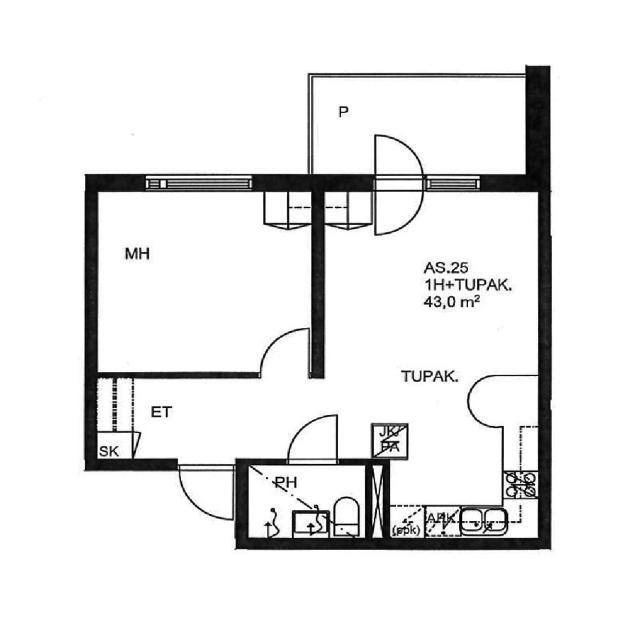door: (370, 132, 432, 238), (172, 456, 238, 523), (253, 324, 316, 381), (283, 409, 342, 469)
window: (141, 170, 258, 196), (423, 170, 487, 196)
zone: (318, 175, 541, 461), (90, 186, 317, 375), (87, 373, 323, 458), (379, 461, 538, 538), (244, 462, 383, 541)
